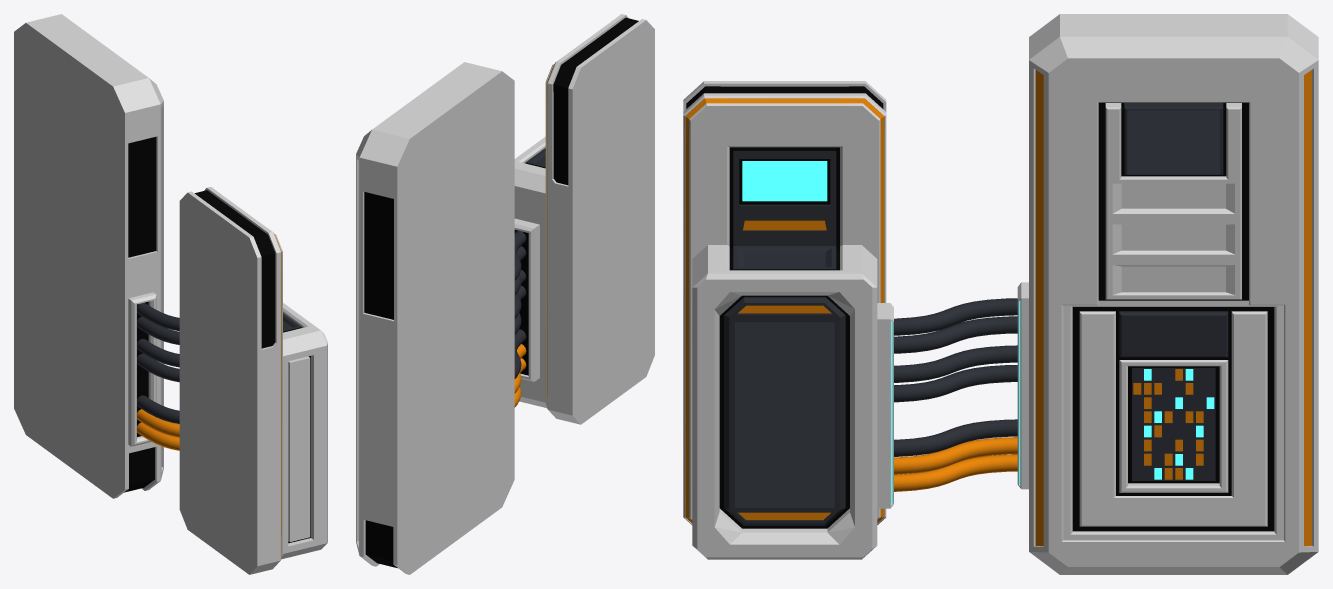
The model's file is SM_WallDecor_StatusPanel.glb.
3 renders of one model, left to right at view 1: azimuth 30°, elevation 25°; view 2: azimuth 150°, elevation 25°; view 3: azimuth 270°, elevation 25°, orthographic. The views are drawn at different scales.
Parts seen in each view (by area): view 1: SM_WallDecor_StatusPanel.001; view 2: SM_WallDecor_StatusPanel.001; view 3: SM_WallDecor_StatusPanel.001.
Part boxes in pixels (x1,y1,x2,y2): SM_WallDecor_StatusPanel.001: (14,14,327,574); SM_WallDecor_StatusPanel.001: (356,14,654,574); SM_WallDecor_StatusPanel.001: (683,14,1318,574).
Bounding box in the file's own units: 0.7205 × 3.74 × 4.
